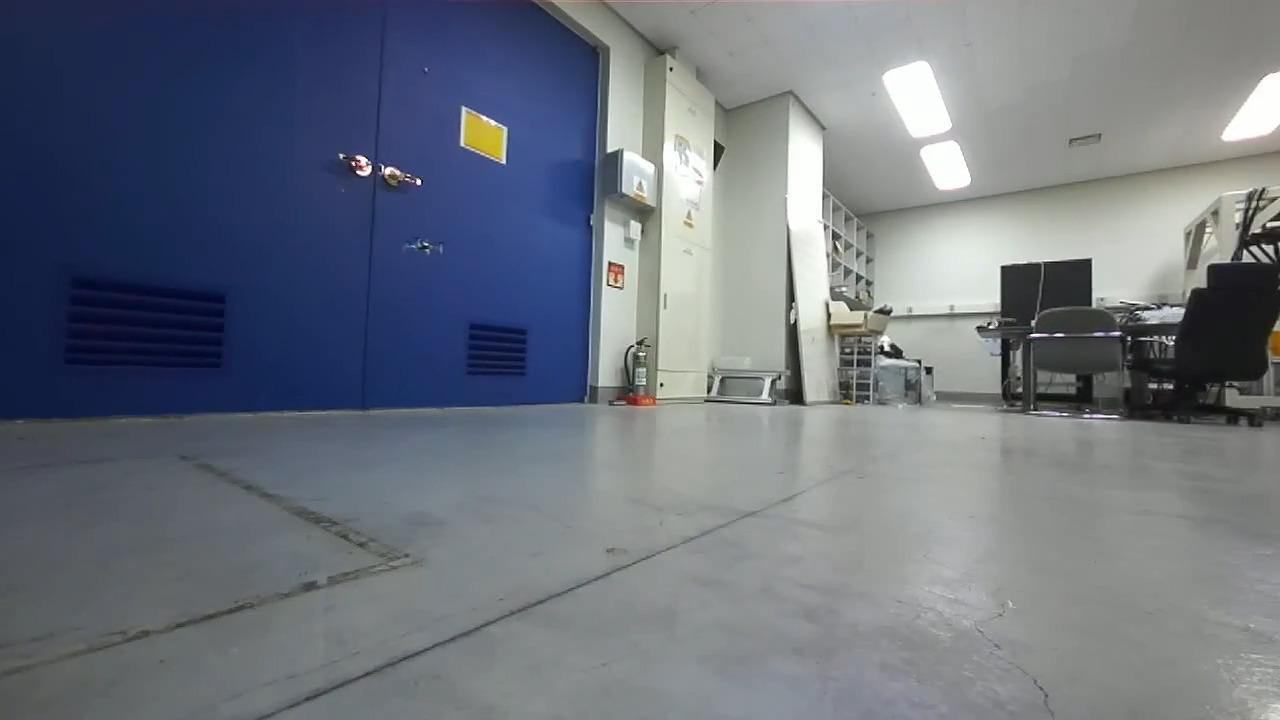crazyflie: (397, 236, 449, 259)
